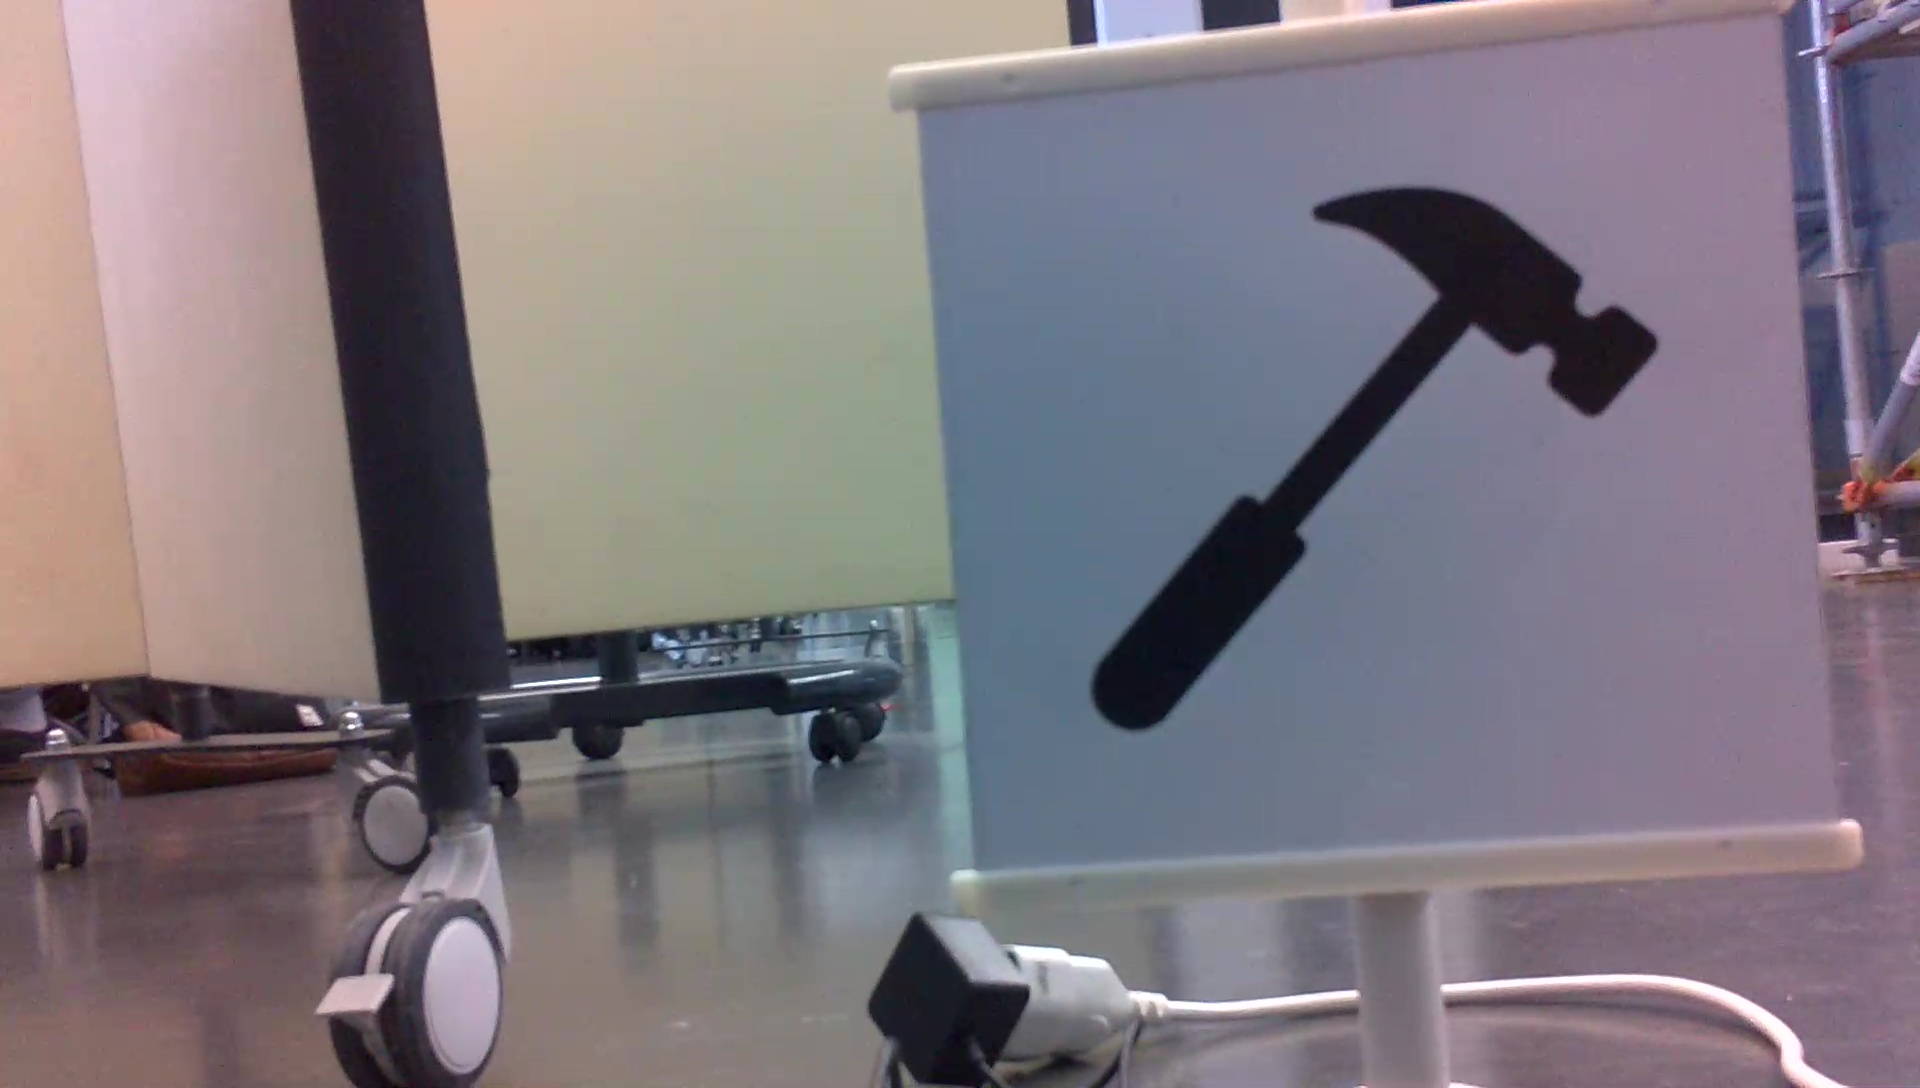hammer: (1080, 181, 1664, 740)
